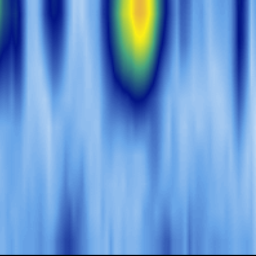defect: (101, 1, 172, 126), (1, 1, 22, 83), (233, 1, 246, 111), (44, 1, 64, 56)
